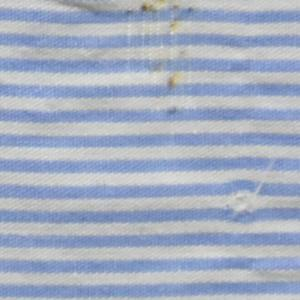Damage: (216, 159, 282, 229)
Oil Stain: (134, 1, 189, 92)
Stain: (55, 1, 136, 24)
